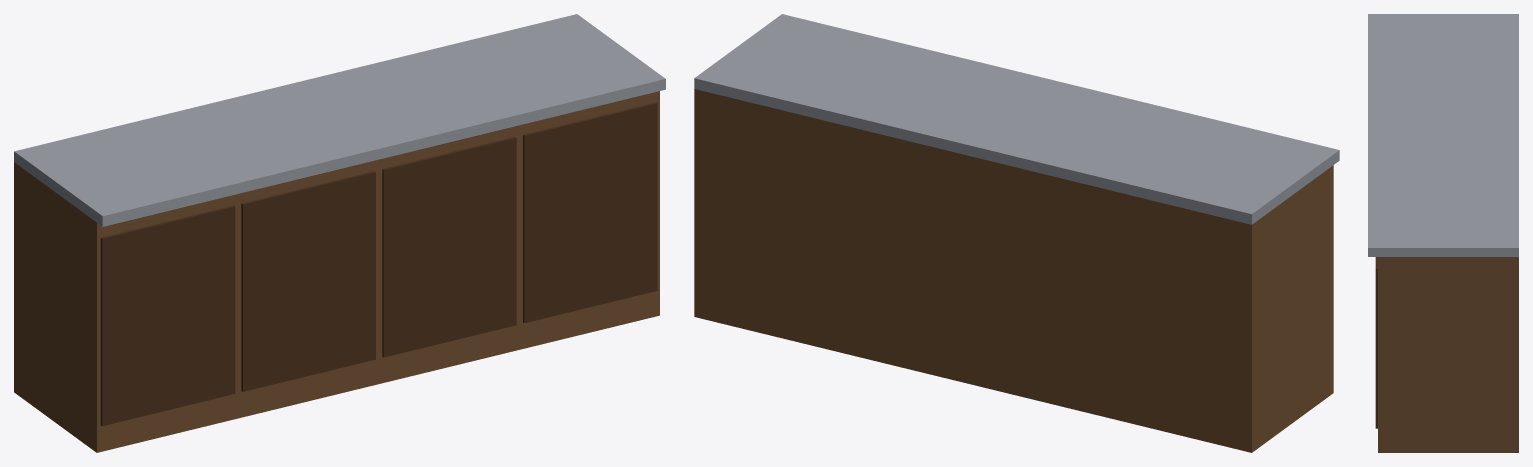
Rendered from kitchen counter.glb.
3 renders of one model, left to right at view 1: azimuth 30°, elevation 25°; view 2: azimuth 150°, elevation 25°; view 3: azimuth 270°, elevation 25°, orthographic. The views are drawn at different scales.
Parts seen in each view (by area): view 1: kitchen counter; view 2: kitchen counter; view 3: kitchen counter.
Boxes of the visible parts, x1=… form: kitchen counter: x1=14, y1=14, x2=665, y2=452; kitchen counter: x1=694, y1=14, x2=1339, y2=452; kitchen counter: x1=1368, y1=14, x2=1518, y2=452.
Bounding box in the file's own units: 2.2 × 0.9 × 0.6.
